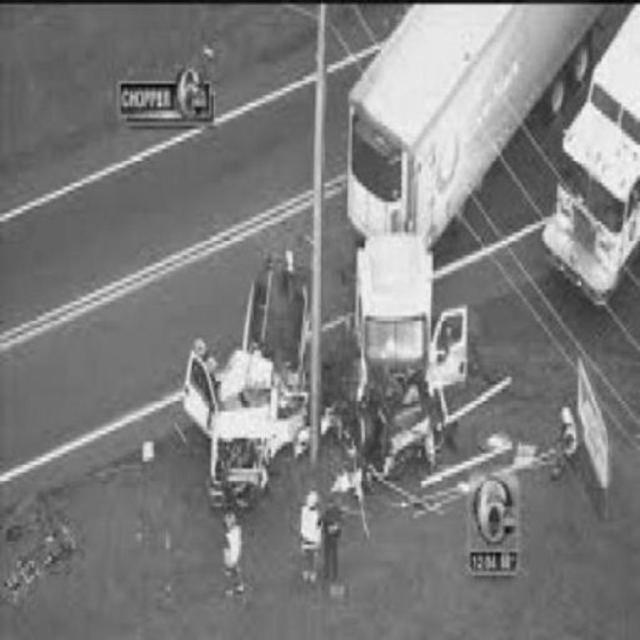accident: (340, 28, 488, 489)
person: (213, 516, 257, 604), (318, 496, 345, 589), (301, 487, 323, 585)
vehicle: (530, 74, 640, 305)
